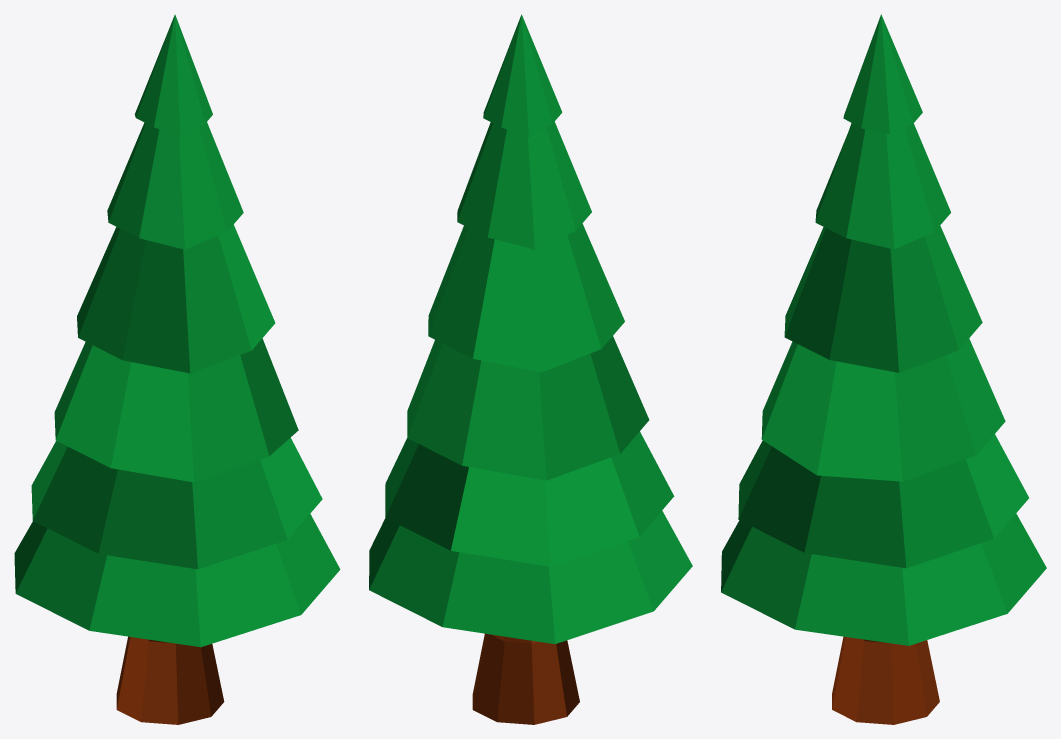
The model's file is Tree.FBX.
3 renders of one model, left to right at view 1: azimuth 30°, elevation 25°; view 2: azimuth 150°, elevation 25°; view 3: azimuth 270°, elevation 25°, orthographic.
Visible parts, largest first — view 1: Tree; view 2: Tree; view 3: Tree.
Part boxes in pixels (x1,y1,x2,y2): Tree: (14, 14, 340, 724); Tree: (369, 14, 692, 724); Tree: (721, 14, 1046, 724).
Bounding box in the file's own units: 2.31 × 5.32 × 2.28.
